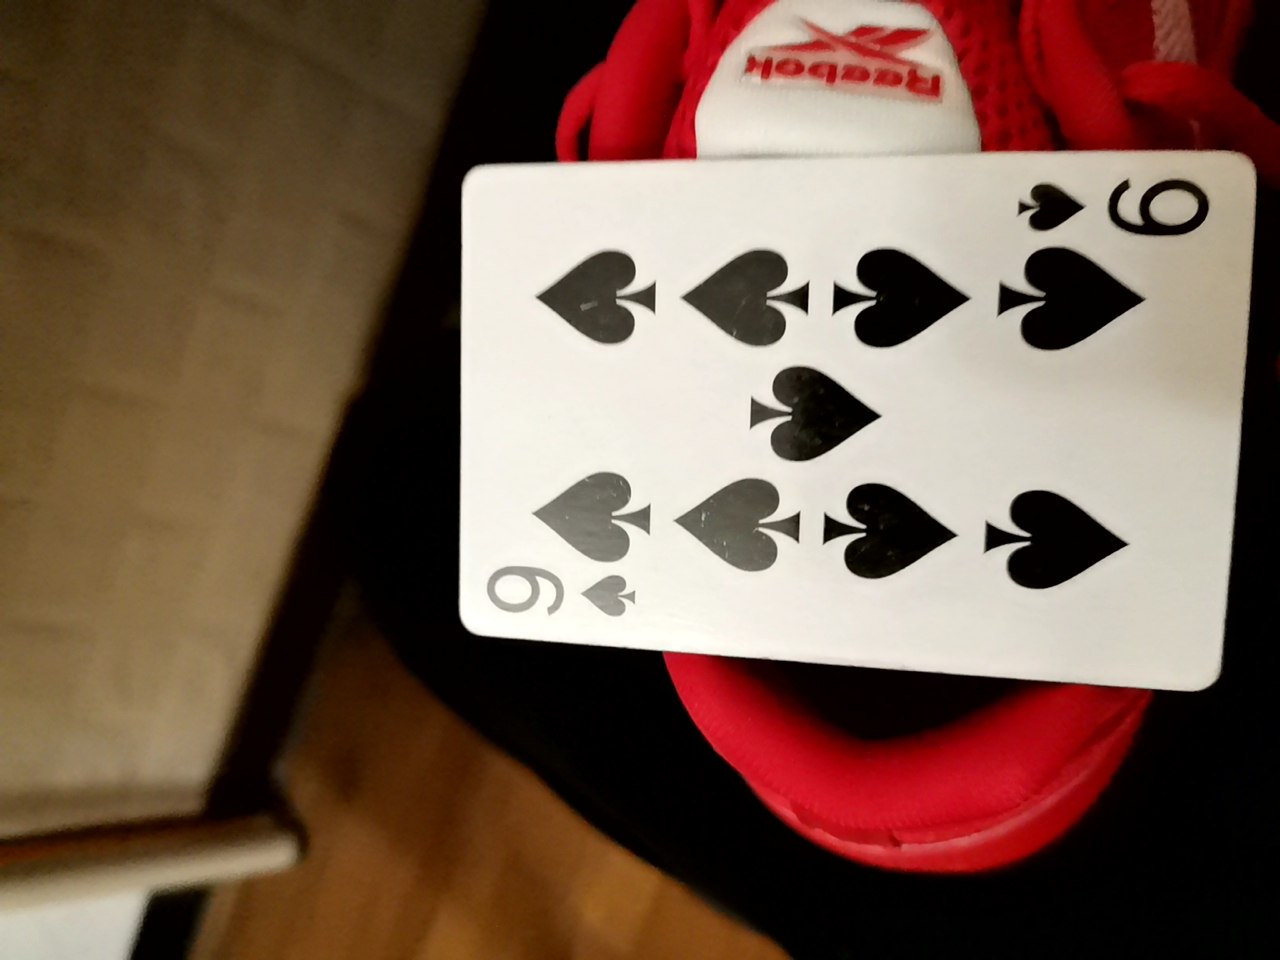ht 9: (396, 133, 1233, 674)
